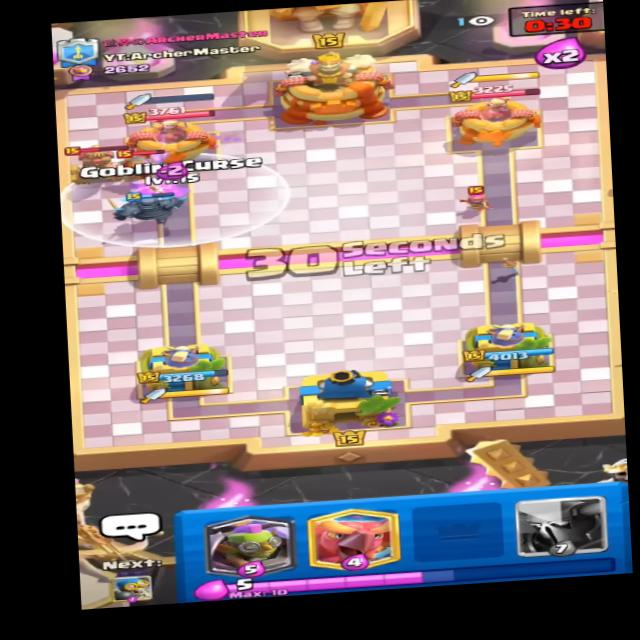archer: (456, 184, 493, 208)
knight: (115, 146, 171, 181)
tesla: (59, 139, 138, 194)
